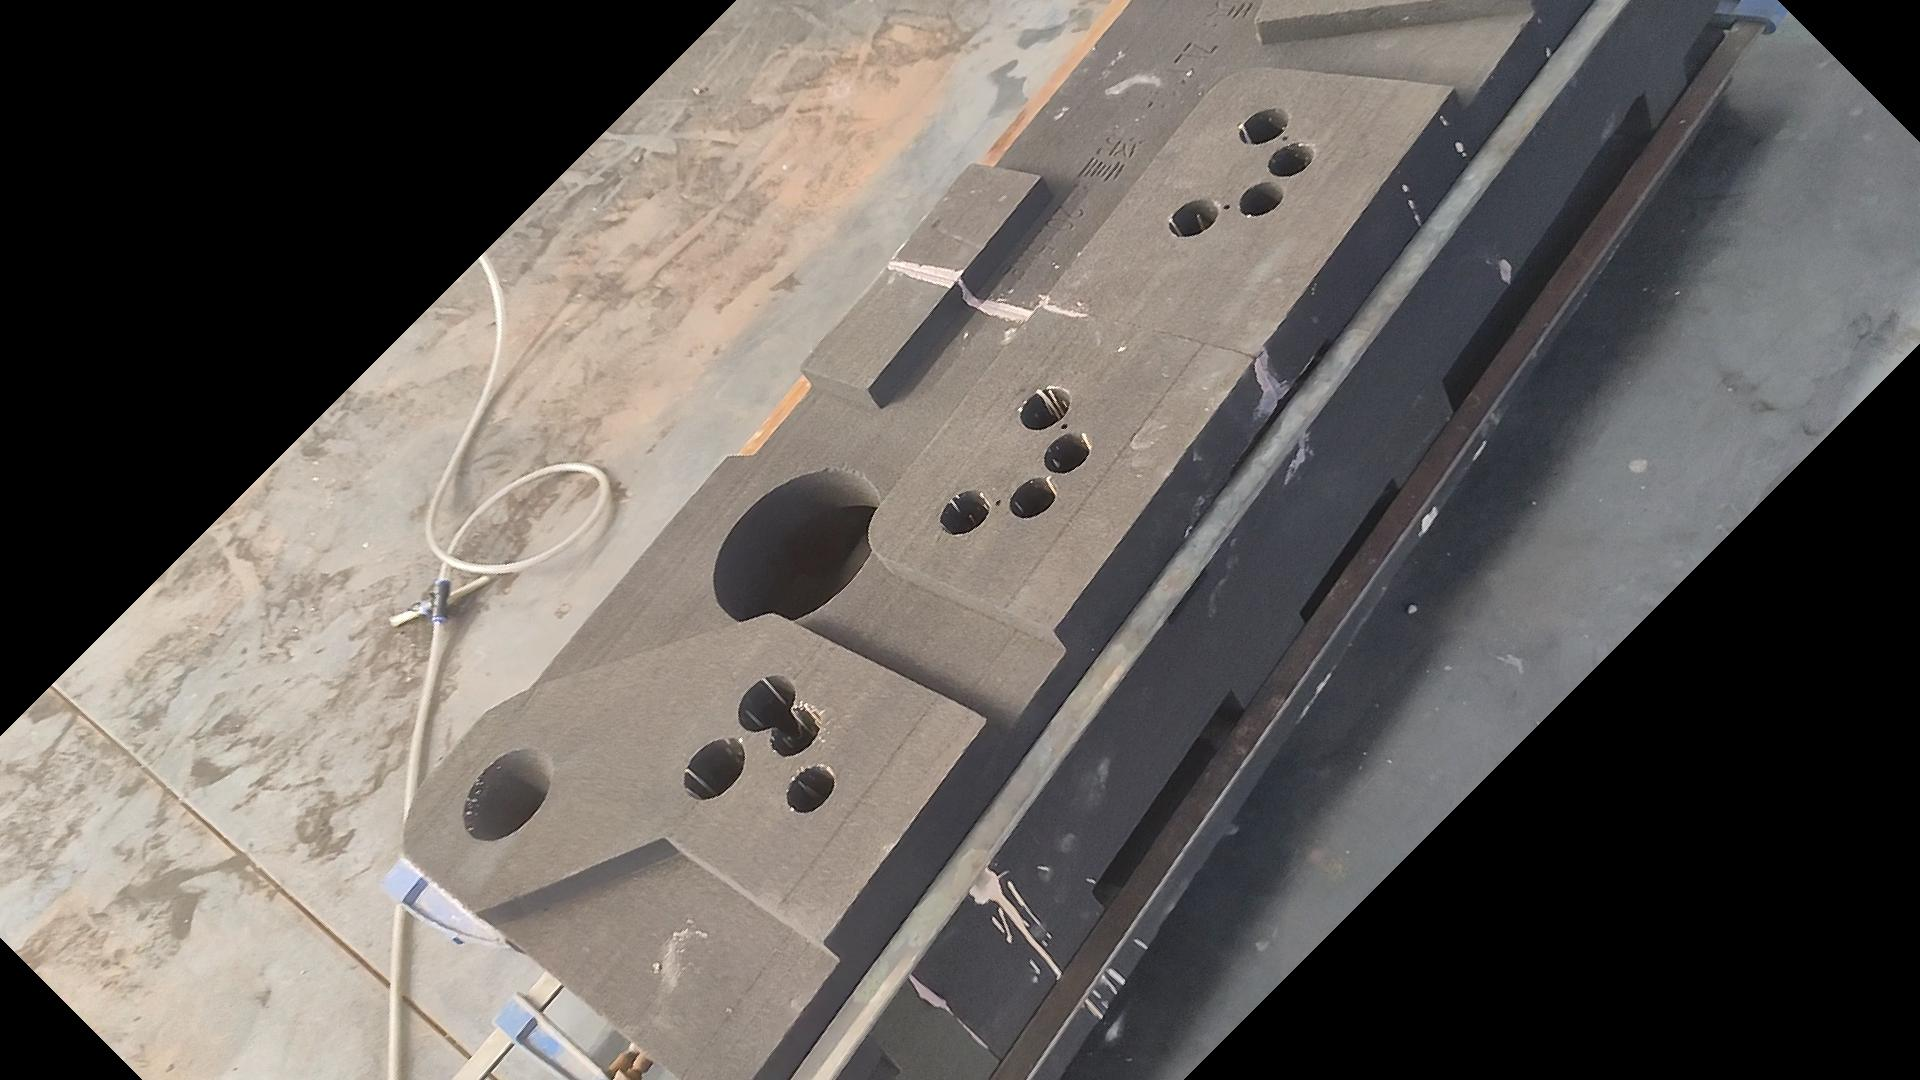pouring hole: (463, 746, 555, 843)
